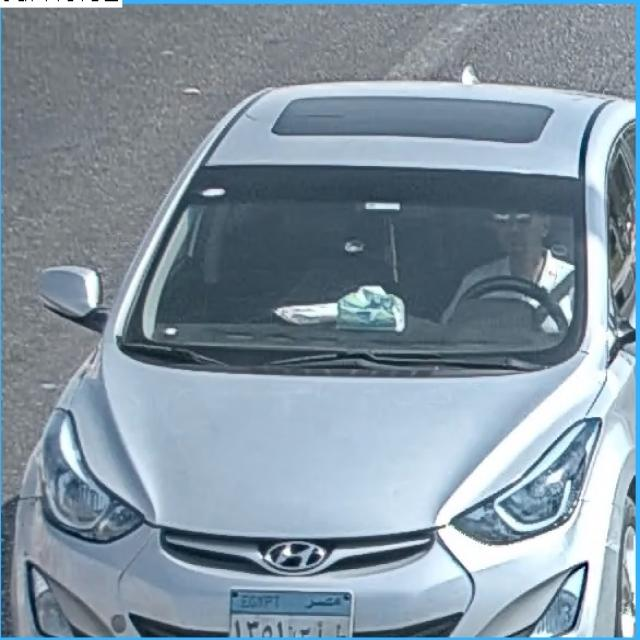windshield: (120, 171, 586, 363)
